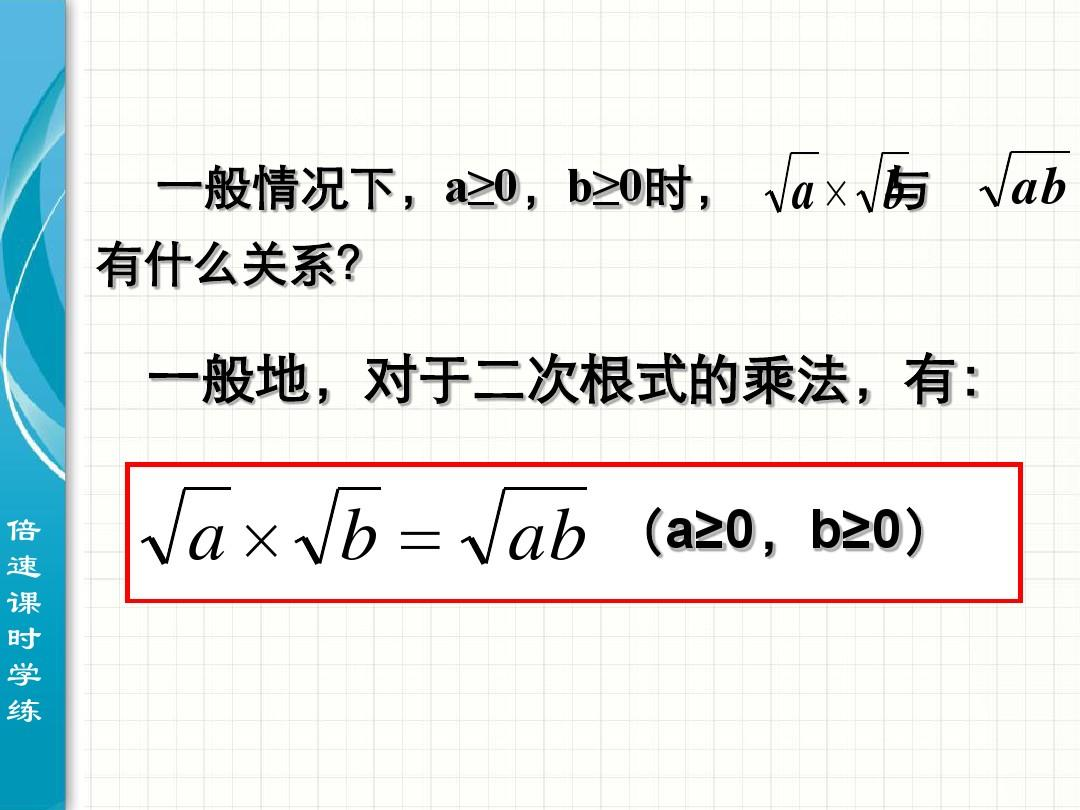sqrt: (462, 481, 595, 566), (141, 481, 237, 573), (293, 481, 387, 572), (979, 145, 1080, 216), (765, 145, 827, 215), (860, 148, 914, 216)
